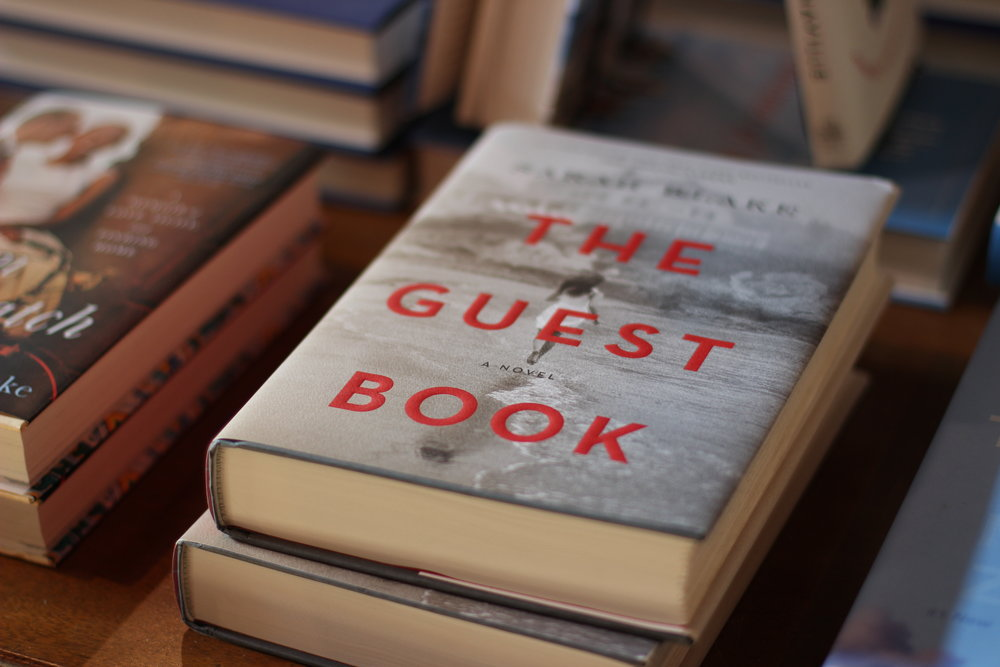book: (291, 123, 853, 579), (1, 78, 319, 460), (26, 267, 341, 567), (145, 532, 691, 667)
